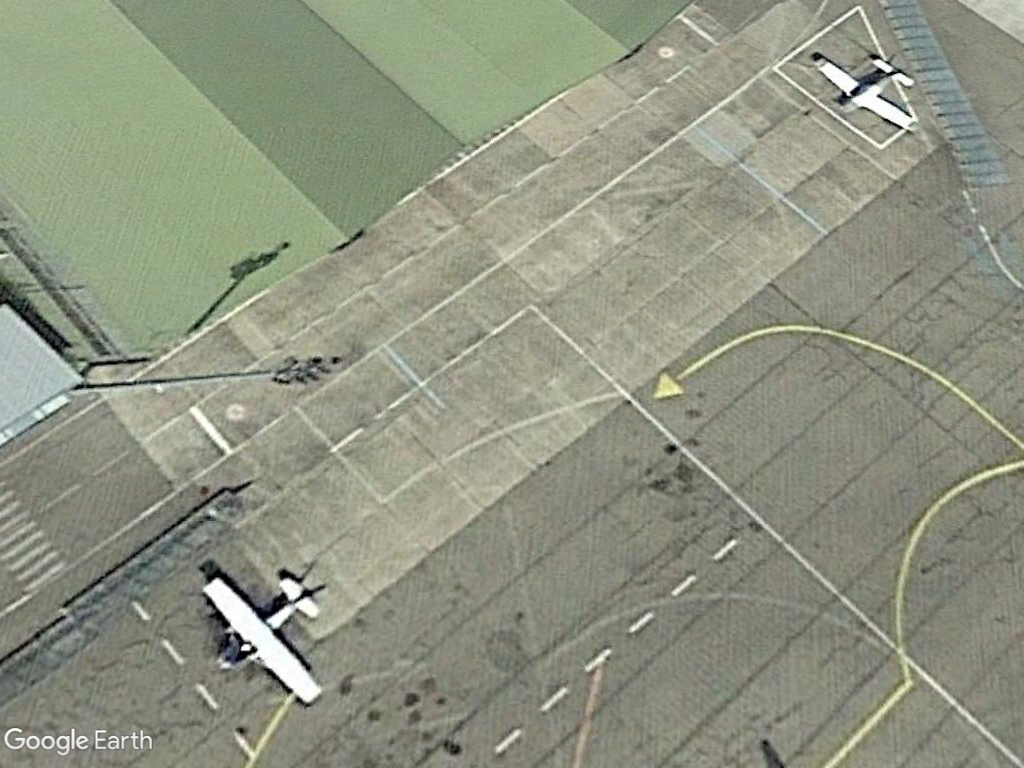trainer: (193, 570, 333, 710)
